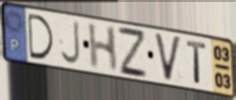D: (26, 12, 56, 62)
H: (87, 22, 119, 73)
J: (59, 19, 82, 67)
T: (185, 39, 209, 86)
V: (152, 31, 183, 84)
Z: (116, 24, 149, 80)
